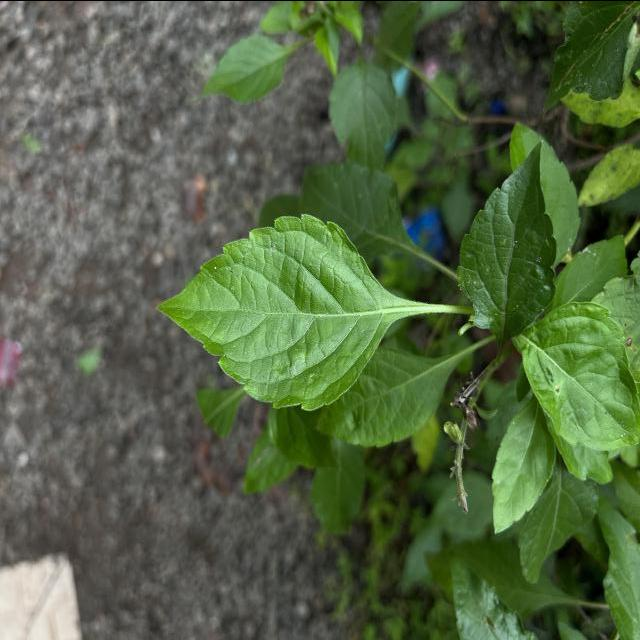Ocimum gratissimum: (152, 210, 433, 413), (452, 136, 560, 348), (510, 296, 640, 453)
